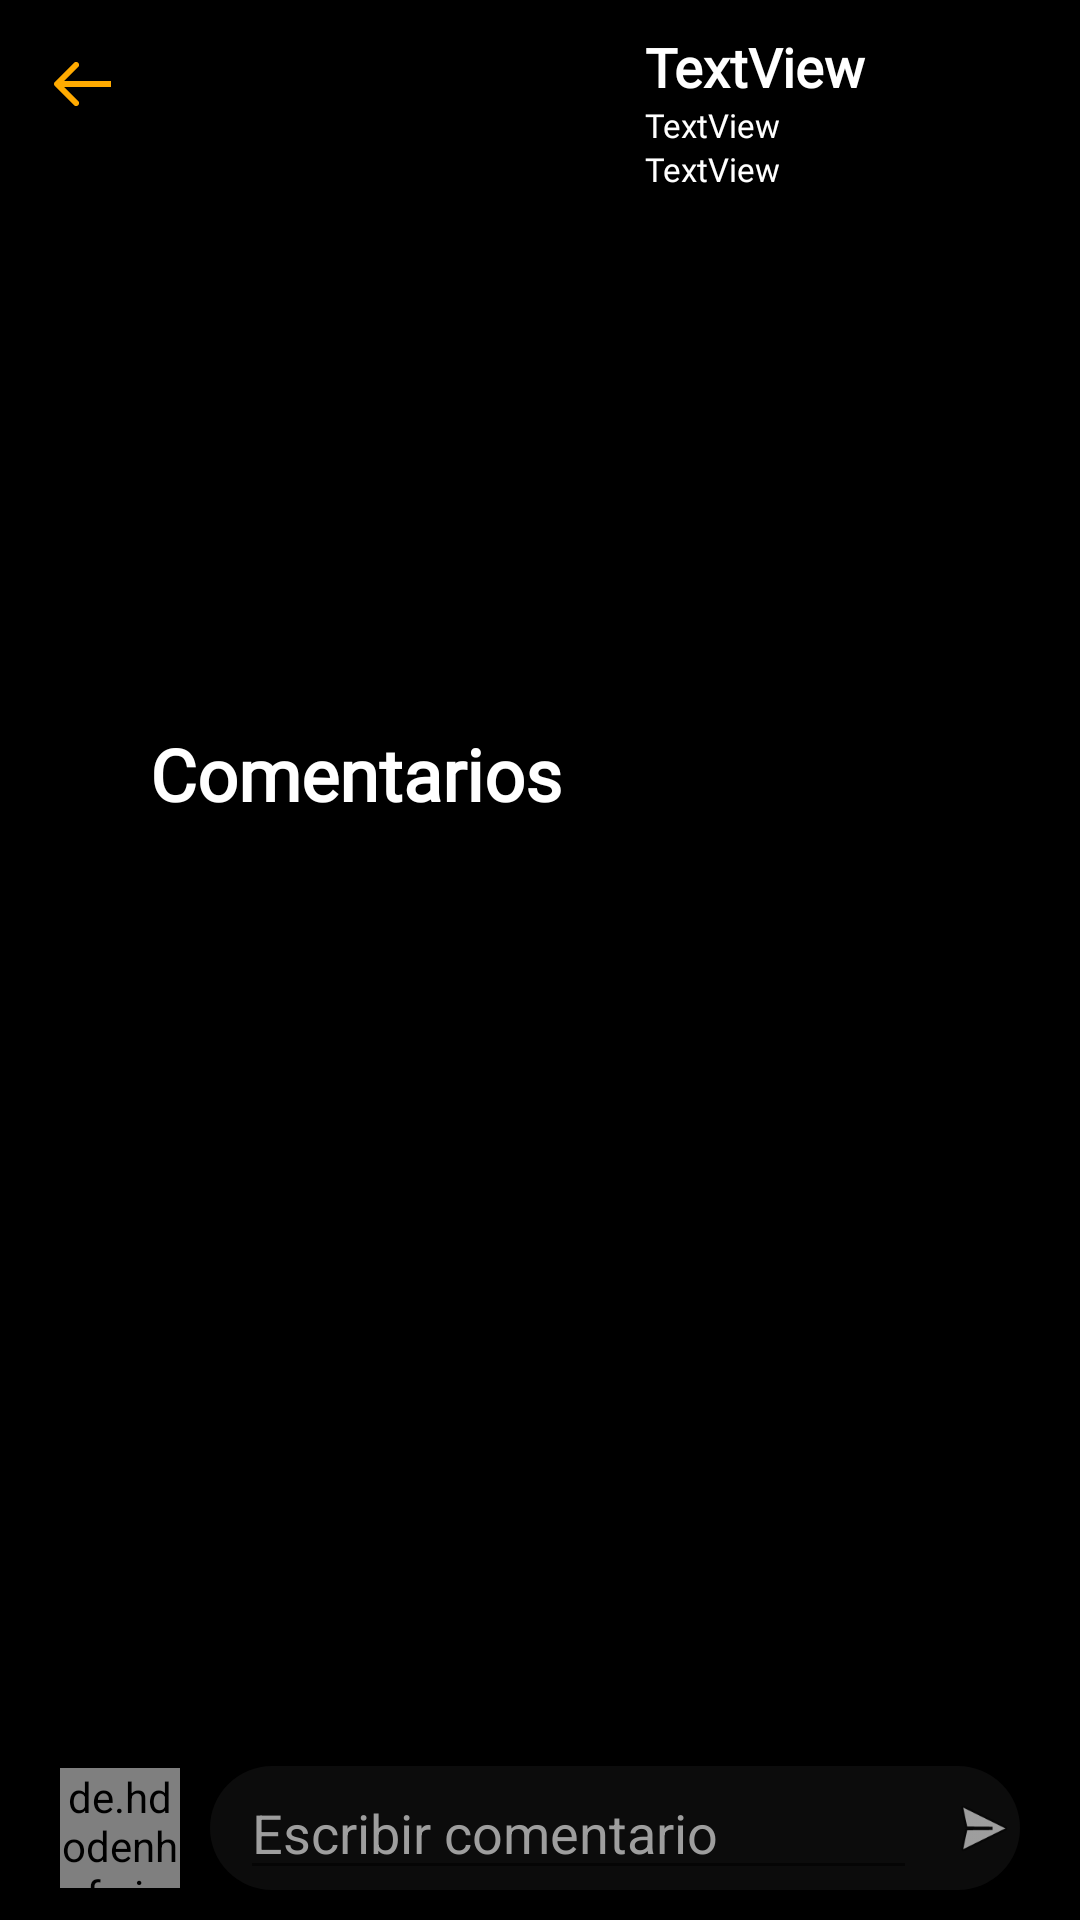

Where icons sit on this 1080*1920 app screen, as (x1, y1, x2, y2):
back: (54, 62, 111, 106)
send: (963, 1807, 1005, 1849)
